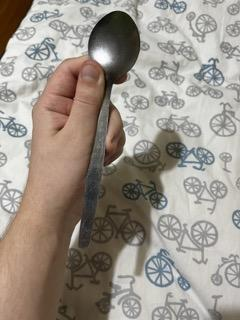spoon: (75, 9, 143, 250)
